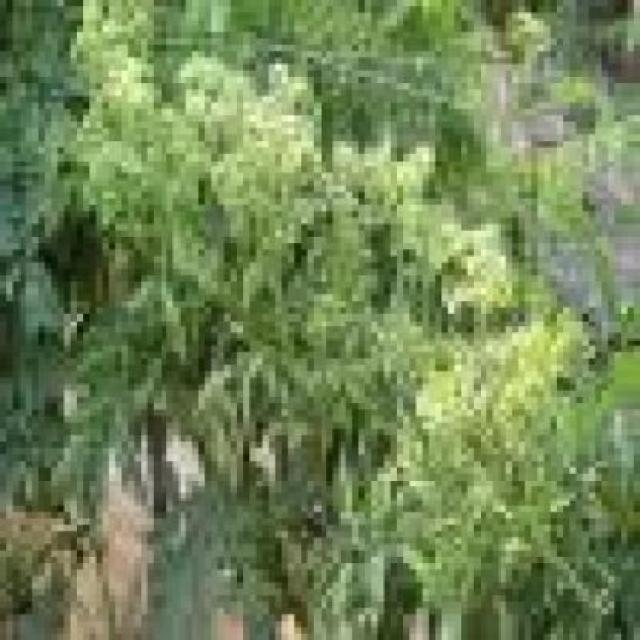Healthy Leaf: (237, 237, 281, 308), (435, 563, 474, 634), (160, 288, 186, 364), (364, 468, 390, 518), (275, 377, 294, 435), (429, 377, 448, 435), (346, 251, 371, 295), (524, 326, 538, 397), (326, 301, 352, 334), (97, 198, 129, 224), (551, 326, 569, 371), (326, 365, 346, 397), (460, 372, 474, 411), (294, 391, 308, 423), (308, 378, 320, 411), (338, 410, 352, 436), (326, 409, 332, 468), (500, 346, 506, 371)
